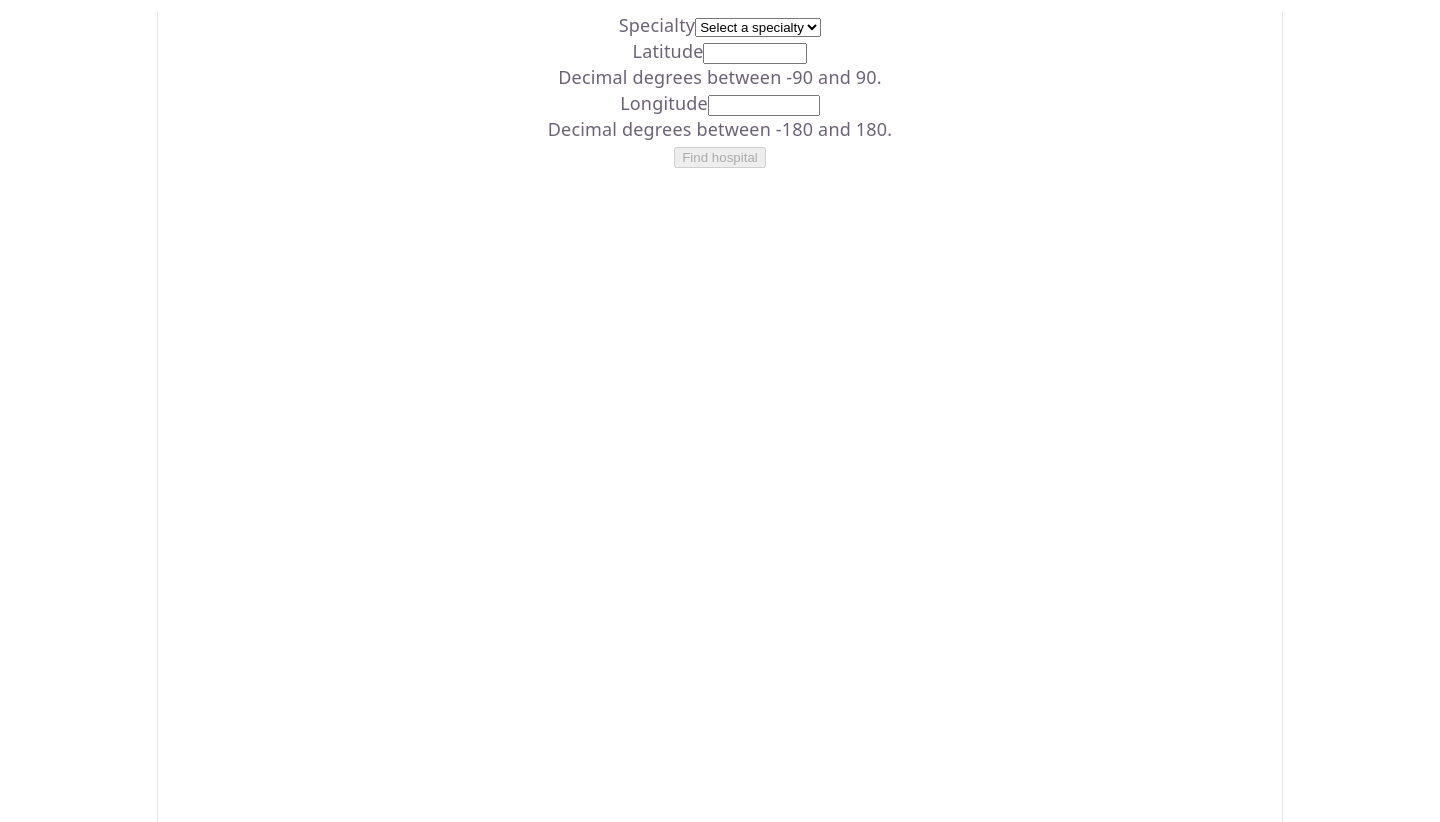
Test: RecommendForm (happy-path behaviour) › lets the user pick cardiology, enter coordinates, submit, and see Fred Brooks Hospital
Expected: the button "Find hospital" is disabled, [674,148,766,168]
Select "Cardiology" in the dropdown labelled "Specialty" at (758, 28), box [695,18,821,37]
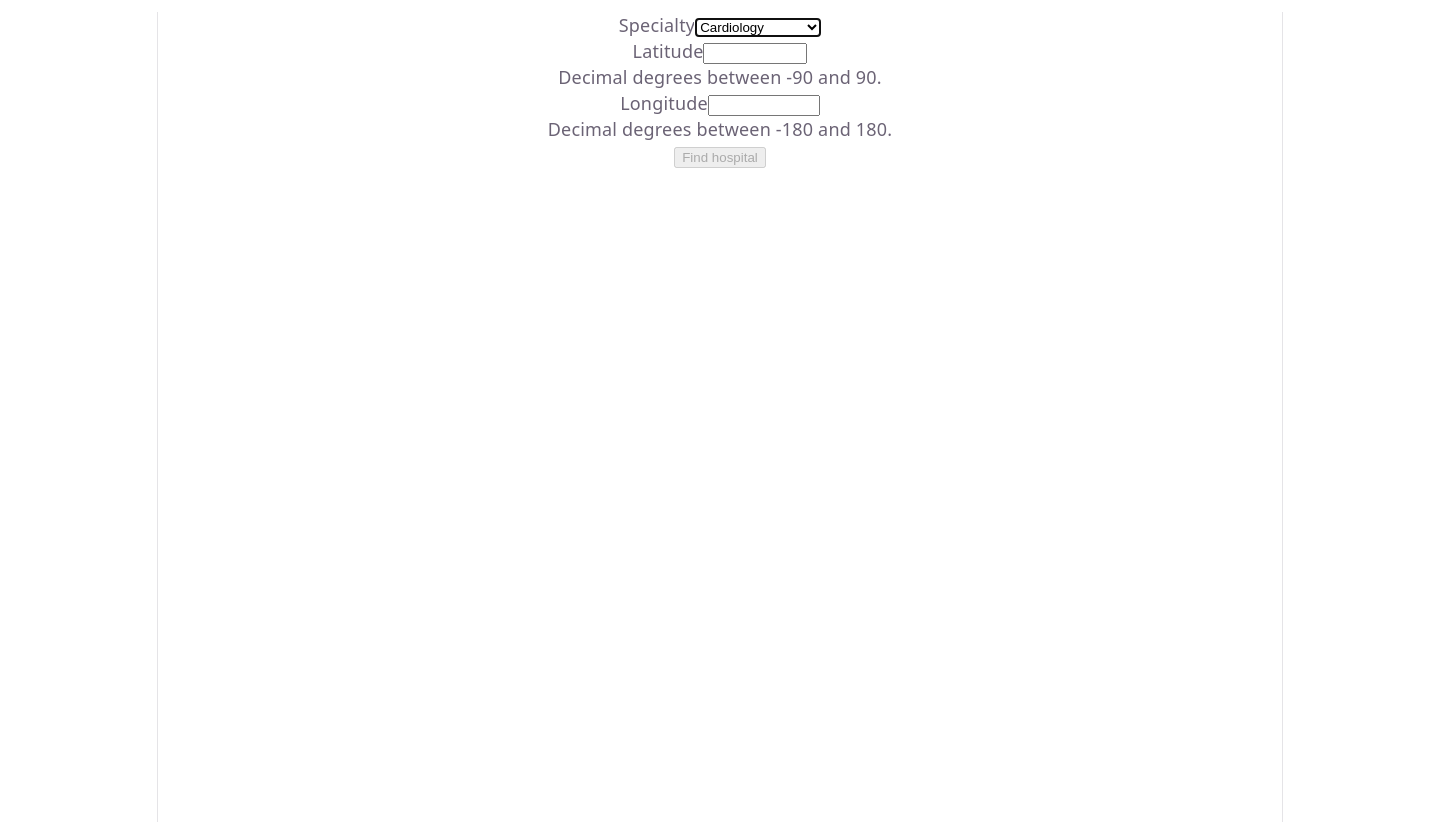
Type "51.523" into the number field labelled "Latitude" at (756, 54), box [704,43,808,64]
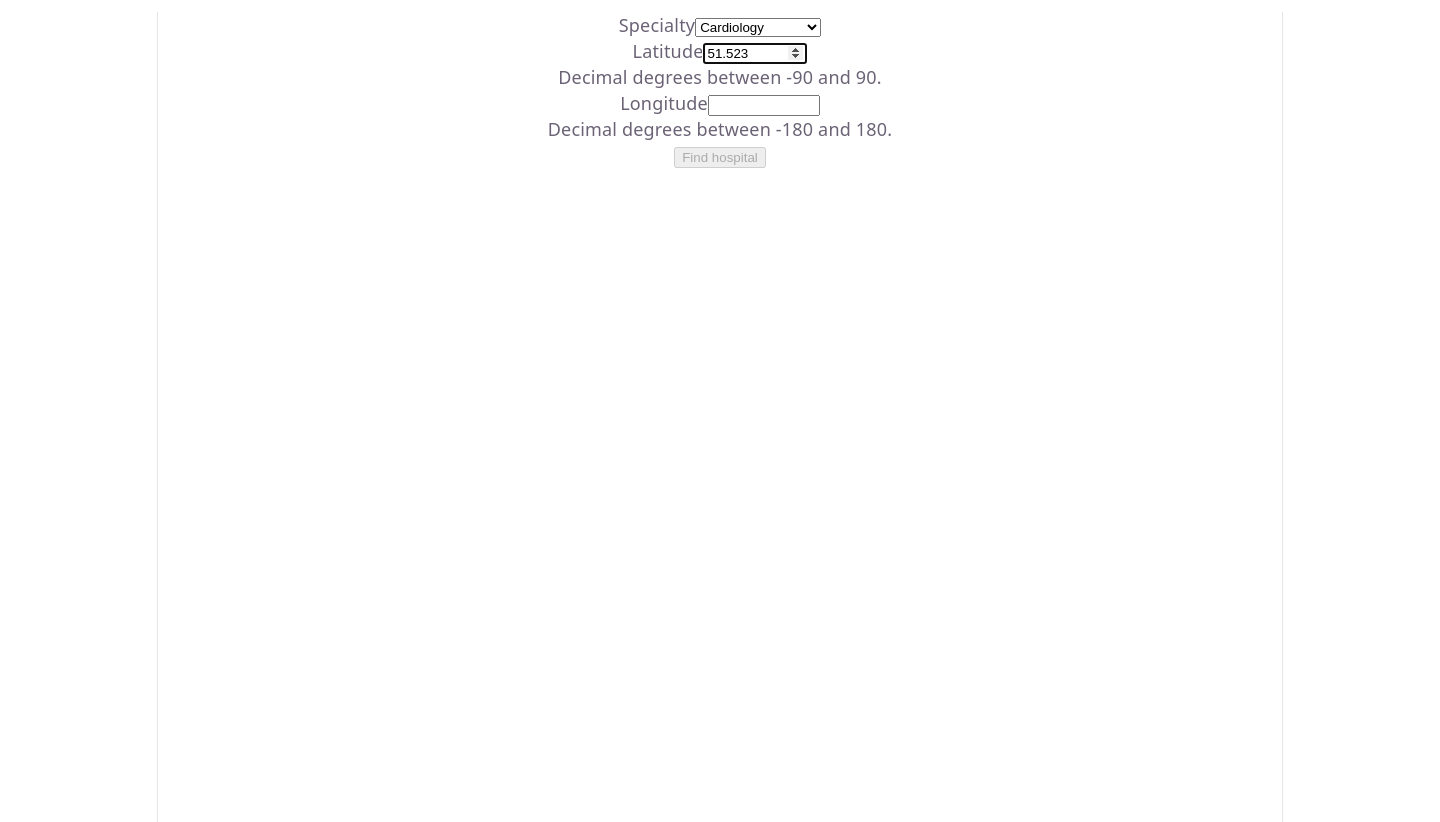
Type "-0.131" into the number field labelled "Longitude" at (764, 106), box [708,95,820,116]
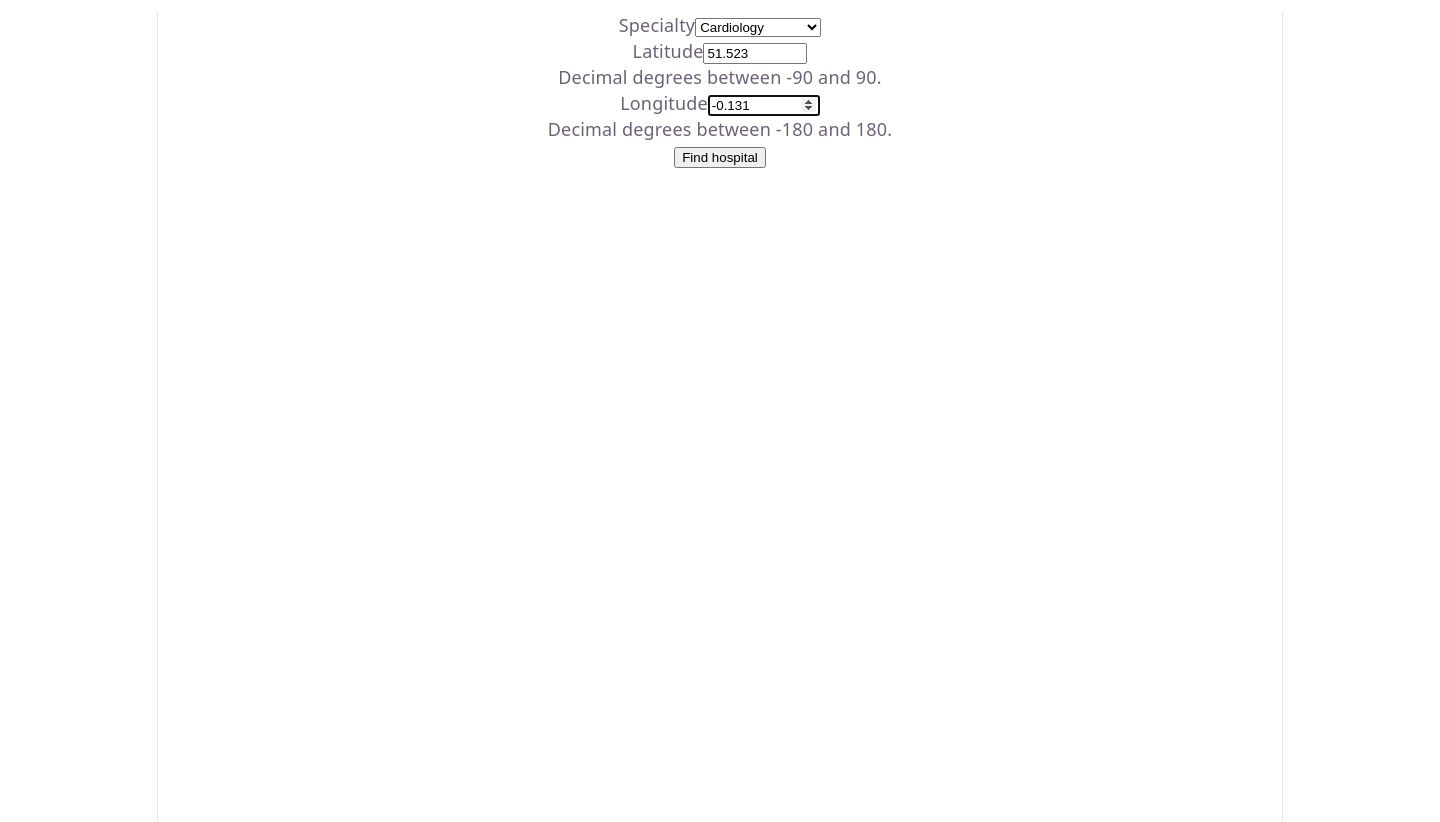
Expected: the button "Find hospital" is enabled
Click the button "Find hospital" at (720, 158), box [674,148,766,168]
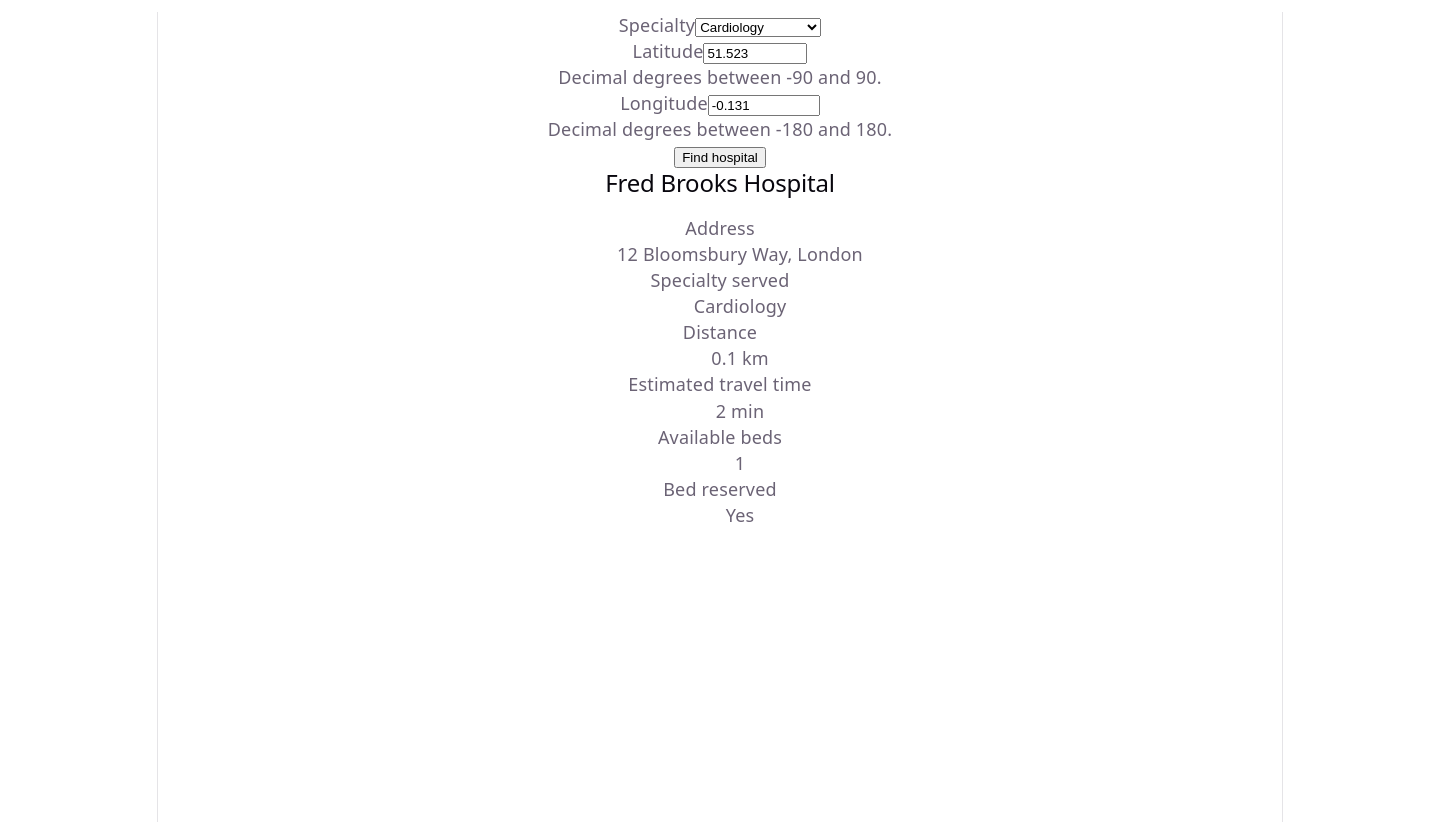
Expected: the heading "Fred Brooks Hospital" is shown, [605,166,835,199]
